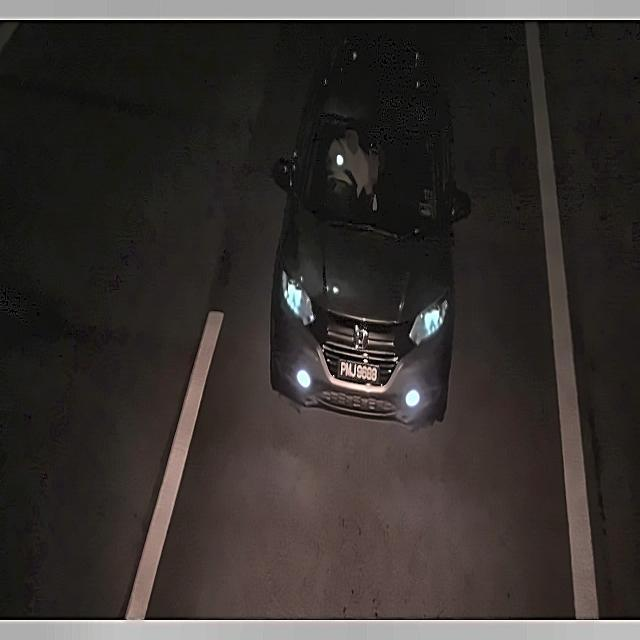car: (335, 352, 388, 392)
